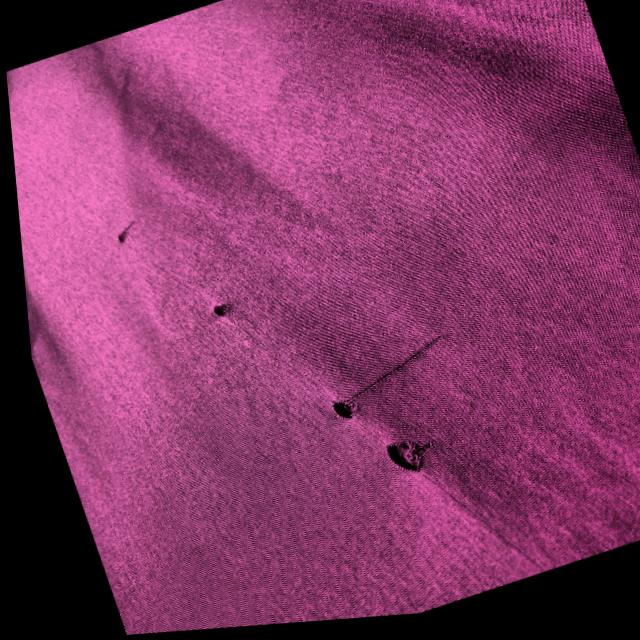Hole: (201, 296, 232, 325)
Stitch: (303, 321, 469, 435), (103, 212, 140, 245)
